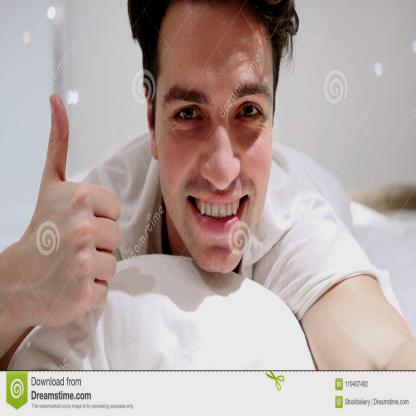Thumbs up: (30, 74, 122, 314)
